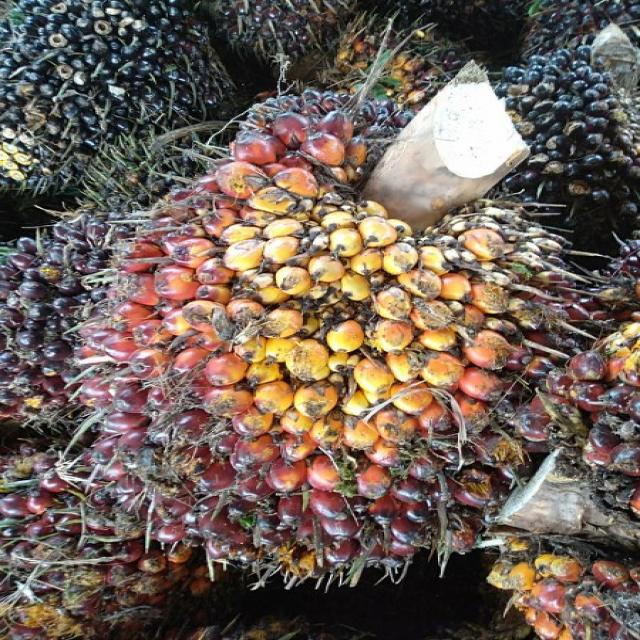fraksi 00: (0, 0, 252, 203)
fraksi 1: (81, 99, 583, 608)
